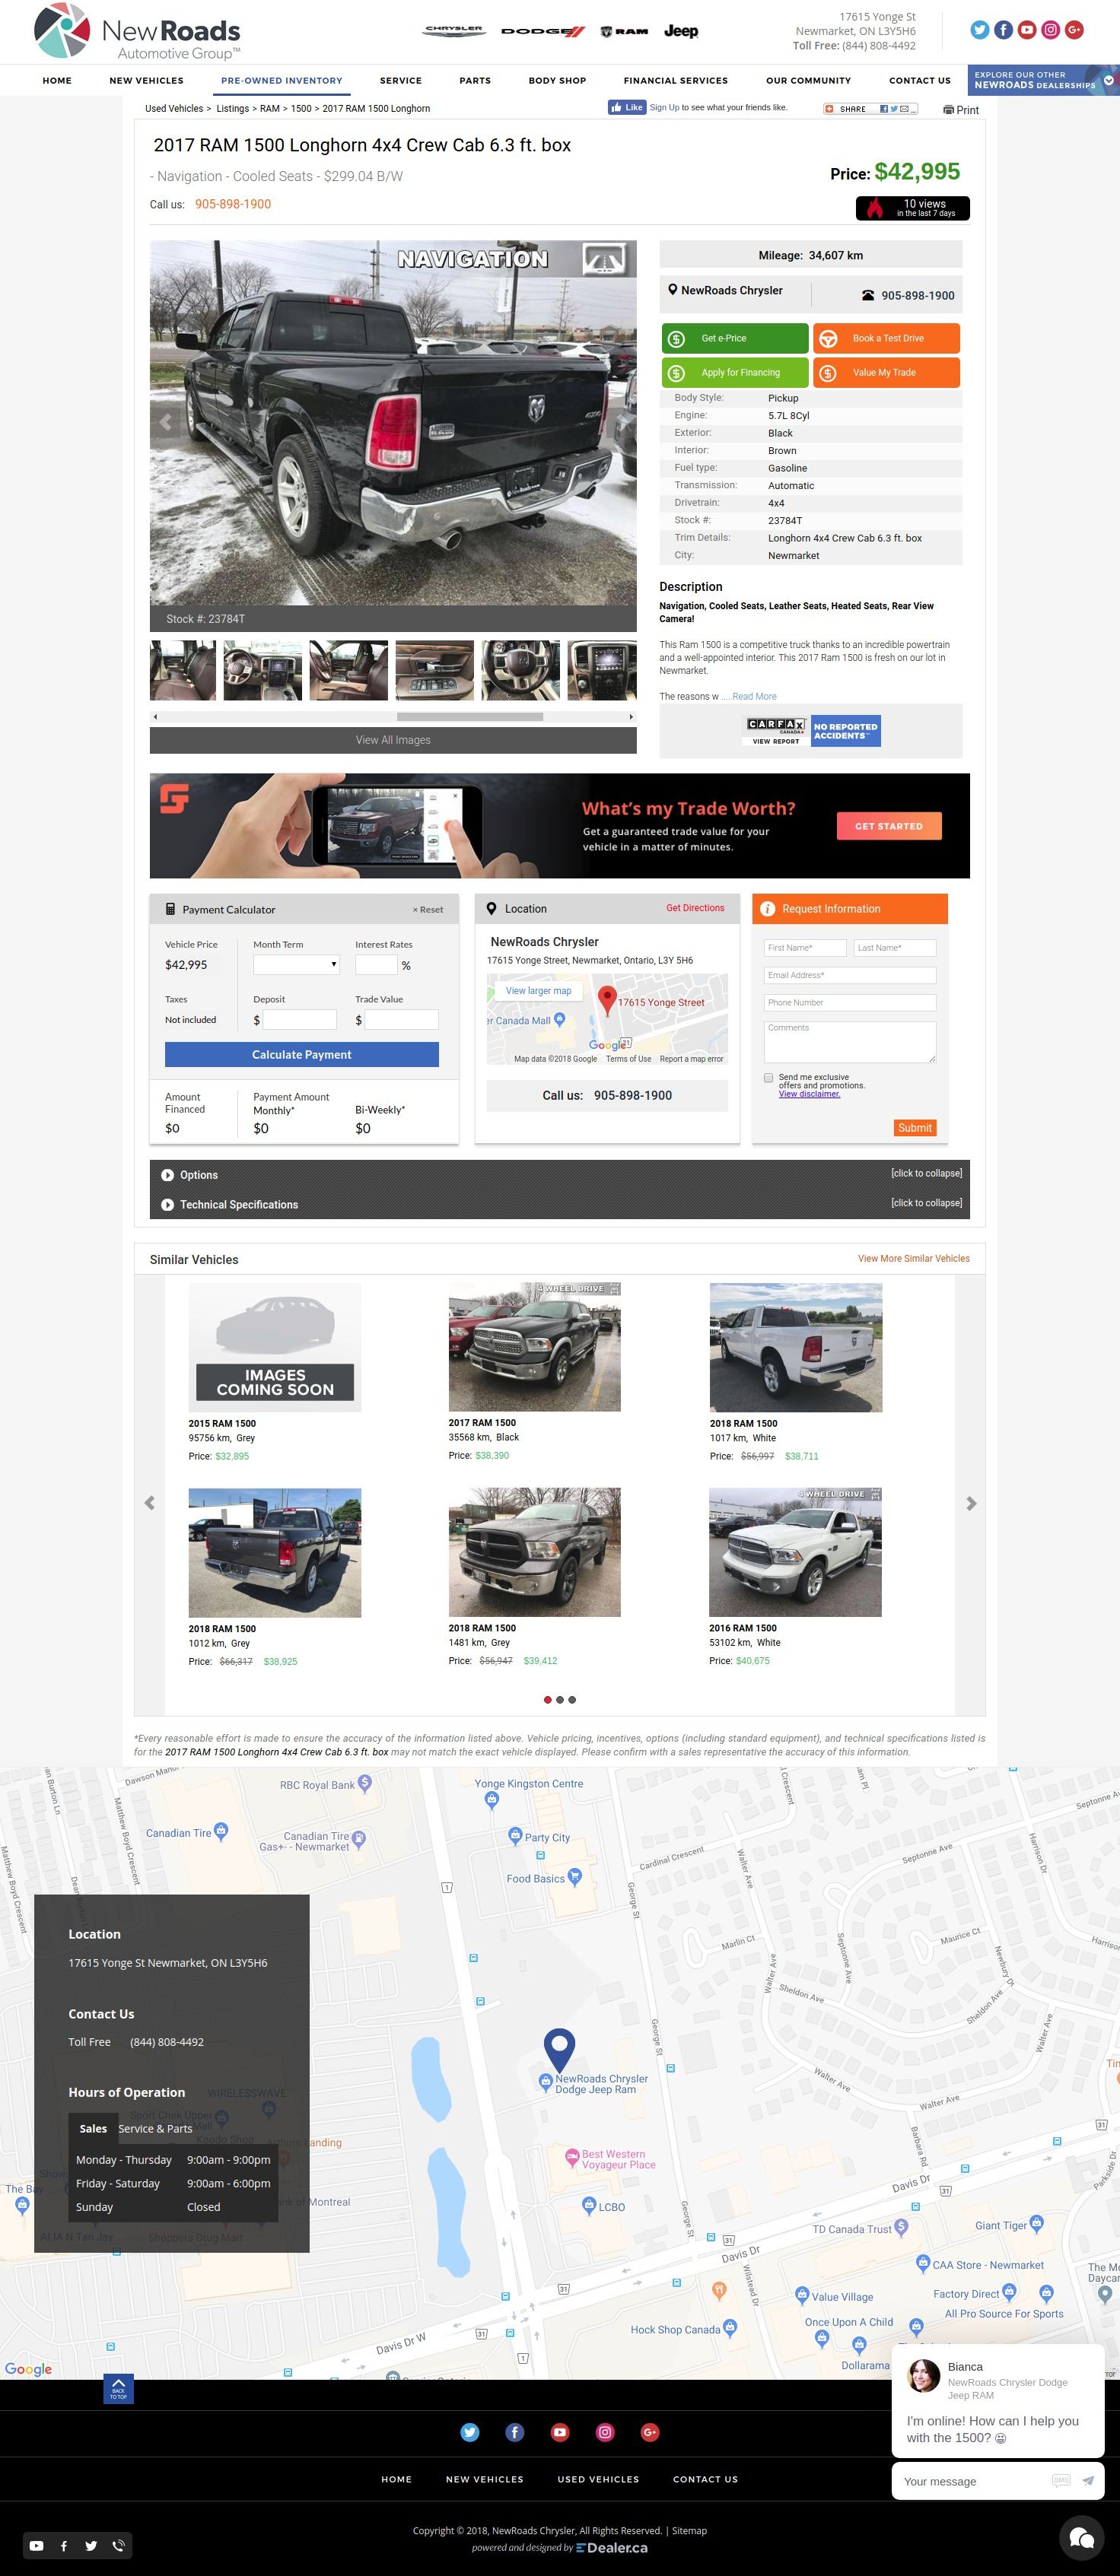car: (630, 713, 635, 721)
